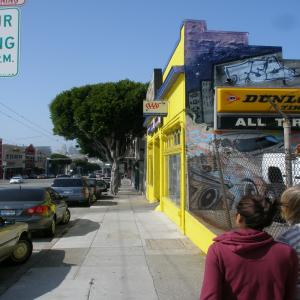Vehicle-registration-plate: (1, 210, 17, 217), (63, 192, 71, 195)
